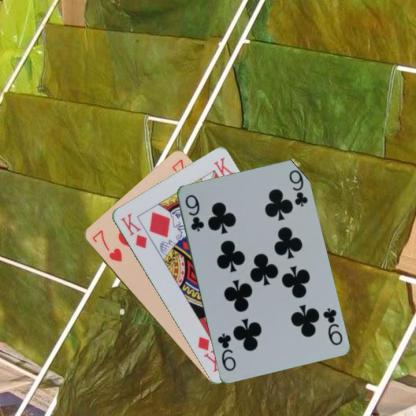7h: (89, 227, 123, 264)
9c: (320, 304, 344, 347), (182, 191, 205, 233)
Kd: (117, 210, 148, 250)
